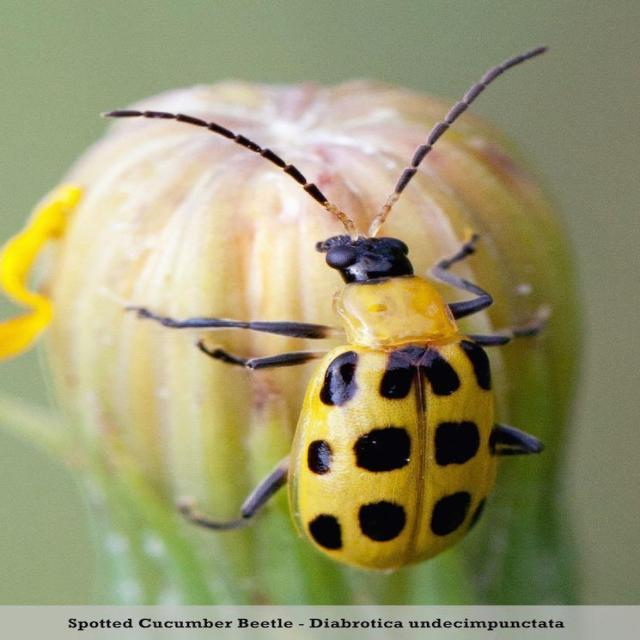gusano_verde: (103, 46, 544, 572)
